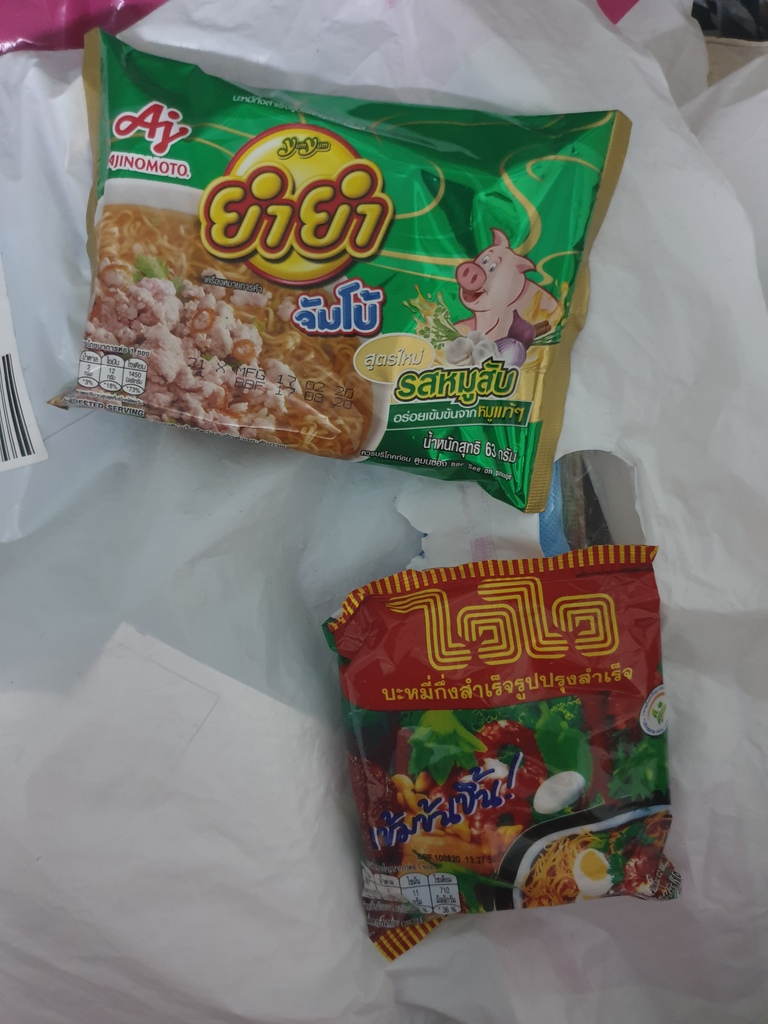waiwai: (326, 560, 691, 907)
yumyum: (77, 37, 638, 511)
